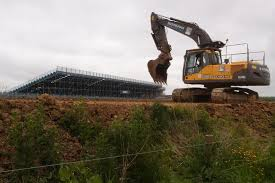excavator: (146, 9, 270, 105)
